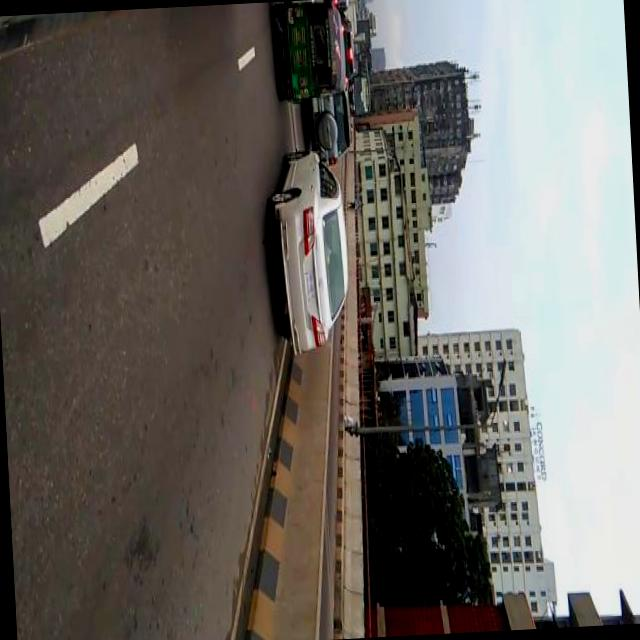bus: (347, 54, 372, 117)
car: (262, 140, 354, 358), (304, 88, 353, 166)
motorcycle: (270, 0, 347, 107)
